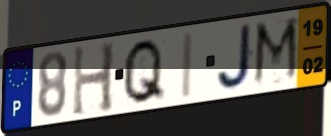8: (37, 49, 69, 120)
H: (71, 40, 117, 119)
I: (178, 29, 196, 102)
J: (214, 21, 254, 93)
M: (250, 14, 301, 90)
Q: (120, 36, 167, 107)
